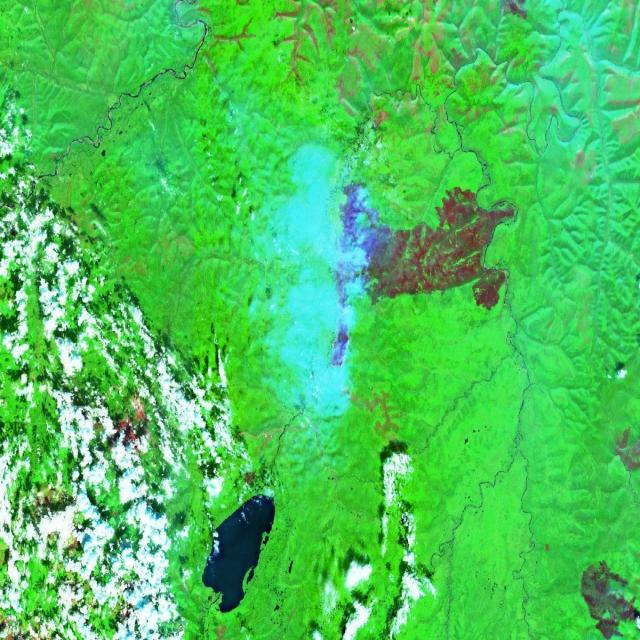fire: (328, 174, 398, 381)
